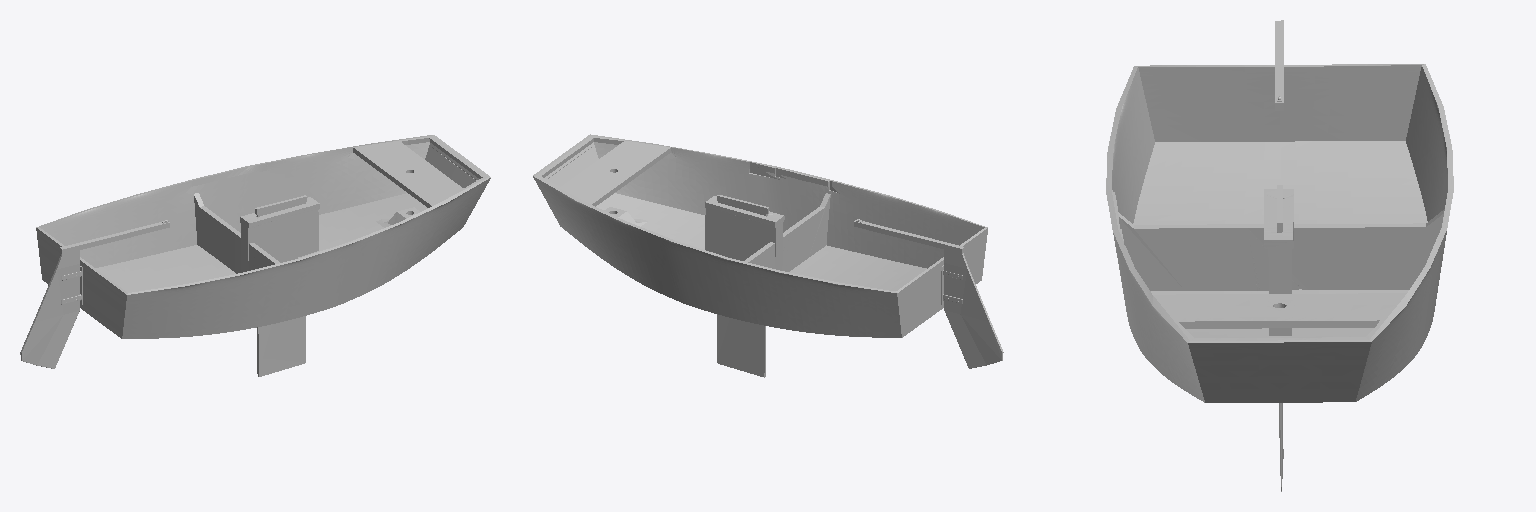
URDF robot description (opti):
<?xml version="1.0" ?>
<!-- =================================================================================== -->
<!-- |    This document was autogenerated by xacro from src/vrx/vrx_urdf/opti_description/urdf/optimist_complete.urdf.xacro | -->
<!-- |    EDITING THIS FILE BY HAND IS NOT RECOMMENDED                                 | -->
<!-- =================================================================================== -->
<robot name="opti">
  <material name="default_gray">
    <color rgba="0.8 0.8 0.8 1"/>
  </material>
  <material name="white">
    <color rgba="1 1 1 1"/>
  </material>
  <!-- in Metern -->
  <!-- Wie tief reicht der Kiel unter das Boot -->
  <!-- Segelfläche in m² -->
  <!-- =================================================================== -->
  <!-- 2. Der Hauptrumpf (Base Link)                                      -->
  <!-- =================================================================== -->
  <link name="base_link">
    <!-- Visuelle Darstellung im Simulator -->
    <visual>
      <origin rpy="0 0 0" xyz="0.0 0.0 0.0"/>
      <geometry>
        <!-- Ersetze 'dein_boot_paket' durch den Namen deines ROS-Packages -->
        <mesh filename="package://opti_description/share/opti_description/meshes/boat.stl" scale="1.0 1.0 1.0"/>
      </geometry>
      <material name="default_gray"/>
    </visual>
    <!-- Kollisionsmodell: Nutzt exakt dieselbe Geometrie -->
    <collision>
      <origin rpy="0 0 0" xyz="0.0 0.0 0.0"/>
      <geometry>
        <mesh filename="package://opti_description/share/opti_description/meshes/boat.stl" scale="1.0 1.0 1.0"/>
      </geometry>
    </collision>
    <!-- Trägheitseigenschaften -->
    <inertial>
      <!-- Tipp: Den Schwerpunkt (origin) bei einem echten Rumpf leicht nach hinten/unten verschieben -->
      <origin rpy="0 0 0" xyz="0.0 0.0 0.0"/>
      <mass value="35.0"/>
      <inertia ixx="6.640958333333331" ixy="0.0" ixz="0.0" iyy="18.34583333333333" iyz="0.0" izz="19.15345833333333"/>
    </inertial>
  </link>
  <!-- =================================================================== -->
  <!-- 3. Der Kiel (Keel)                                                 -->
  <!-- =================================================================== -->
  <joint name="kiel_joint" type="fixed">
    <parent link="base_link"/>
    <child link="kiel_link"/>
    <origin rpy="0 0 0" xyz="0.0 0.0 -0.5"/>
  </joint>
  <link name="kiel_link">
    <visual>
      <origin rpy="0 0 0" xyz="0.0 0.0 0.5"/>
      <geometry>
        <!-- Ersetze 'dein_boot_paket' durch den Namen deines ROS-Packages -->
        <mesh filename="package://opti_description/share/opti_description/meshes/keel.stl" scale="1.0 1.0 1.0"/>
      </geometry>
      <material name="default_gray"/>
    </visual>
    <collision>
      <origin rpy="0 0 0" xyz="0.0 0.0 0.5"/>
      <geometry>
        <!-- Ersetze 'dein_boot_paket' durch den Namen deines ROS-Packages -->
        <mesh filename="package://opti_description/share/opti_description/meshes/keel.stl" scale="1.0 1.0 1.0"/>
      </geometry>
    </collision>
    <inertial>
      <origin rpy="0 0 0" xyz="0.0 0.0 0.0"/>
      <mass value="2.5"/>
      <inertia ixx="0.05" ixy="0.0" ixz="0.0" iyy="0.0" iyz="0.0" izz="0.0"/>
    </inertial>
  </link>
  <!-- =================================================================== -->
  <!-- 4. Das Segel (Sail)                                                -->
  <!-- =================================================================== -->
  <joint name="sail_joint" type="revolute">
    <parent link="base_link"/>
    <child link="sail_link"/>
    <origin rpy="0 0 0" xyz="0.99628 0.0 0.0"/>
    <axis xyz="0 0 1"/>
    <!-- Wichtig: Gelenkreibung gegen Null setzen (dynamics damping="0.0"), damit es sich frei im Wind bewegt -->
    <dynamics damping="0.01" friction="0.0"/>
    <!-- Initiale Limits für die maximale Öffnung (wird über das Plugin überschrieben) -->
    <limit effort="0.0" lower="-1.57" upper="1.57" velocity="2.0"/>
  </joint>
  <link name="sail_link">
    <visual>
      <origin rpy="0 0 0" xyz="0.0 0.0 0.0"/>
      <geometry>
        <!-- Ersetze 'dein_boot_paket' durch den Namen deines ROS-Packages -->
        <mesh filename="package://opti_description/share/opti_description/meshes/sail.stl" scale="1.0 1.0 1.0"/>
      </geometry>
      <material name="default_gray"/>
    </visual>
    <collision>
      <origin rpy="0 0 0" xyz="0.0 0.0 0.0"/>
      <geometry>
        <!-- Ersetze 'dein_boot_paket' durch den Namen deines ROS-Packages -->
        <mesh filename="package://opti_description/share/opti_description/meshes/sail.stl" scale="1.0 1.0 1.0"/>
      </geometry>
    </collision>
    <inertial>
      <origin rpy="0 0 0" xyz="0.0 0.0 1.175"/>
      <mass value="3.0"/>
      <inertia ixx="1.3806250000000002" ixy="0.0" ixz="0.0" iyy="1.93517456994115" iyz="0.0" izz="0.5545495699411498"/>
    </inertial>
  </link>
  <!-- =================================================================== -->
  <!-- 5. Das Ruder (Rudder)                                              -->
  <!-- =================================================================== -->
  <joint name="rudder_joint" type="revolute">
    <parent link="base_link"/>
    <child link="rudder_link"/>
    <origin rpy="0 0 0" xyz="-0.988233 0.0 0.0"/>
    <axis xyz="0 0 1"/>
    <!-- Das Ruder benötigt Stellkraft (effort), um die Position gegen den Wasserdruck zu halten -->
    <limit effort="50" lower="-0.78" upper="0.78" velocity="1.5"/>
  </joint>
  <link name="rudder_link">
    <visual>
      <origin rpy="0 0 0" xyz="0.0 0.0 0.0"/>
      <geometry>
        <!-- Ersetze 'dein_boot_paket' durch den Namen deines ROS-Packages -->
        <mesh filename="package://opti_description/share/opti_description/meshes/rudder.stl" scale="1.0 1.0 1.0"/>
      </geometry>
      <material name="default_gray"/>
    </visual>
    <collision>
      <origin rpy="0 0 0" xyz="0.0 0.0 0.0"/>
      <geometry>
        <!-- Ersetze 'dein_boot_paket' durch den Namen deines ROS-Packages -->
        <mesh filename="package://opti_description/share/opti_description/meshes/rudder.stl" scale="1.0 1.0 1.0"/>
      </geometry>
    </collision>
    <inertial>
      <mass value="2.0"/>
      <inertia ixx="0.041666666666666664" ixy="0.0" ixz="0.0" iyy="0.08333333333333333" iyz="0.0" izz="0.041666666666666664"/>
    </inertial>
  </link>
</robot>

--- Facts derived from the render (not from the file) ---
Views: 3 orthographic renders of the robot side by side, from view 1: azimuth 30°, elevation 25°; view 2: azimuth 150°, elevation 25°; view 3: azimuth 270°, elevation 25°.
Model opti with 4 links and 3 joints (2 revolute, 1 fixed), rooted at base_link, posed all joints at 0.
Visible links, largest first — view 1: base_link, rudder_link, kiel_link; view 2: base_link, rudder_link, kiel_link; view 3: base_link, rudder_link, kiel_link.
Boxes of the visible links, x1,y1,x2,y2 form: base_link: [36, 135, 490, 338]; rudder_link: [20, 220, 169, 368]; kiel_link: [255, 195, 306, 376]; base_link: [533, 134, 987, 337]; rudder_link: [854, 219, 1003, 368]; kiel_link: [717, 195, 768, 377]; base_link: [1106, 64, 1453, 402]; rudder_link: [1275, 20, 1283, 110]; kiel_link: [1277, 185, 1283, 491].
Bounding box of the posed robot: 2.65 × 1.13 × 1.04 m (x, y, z).
3 mesh visuals loaded from 4 distinct referenced files (3 binary STL); not drawn: 1 (reference not matched to a file when rendering).
